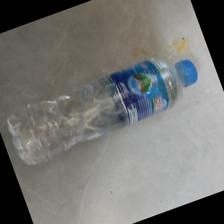Lavie: (5, 56, 204, 166)
